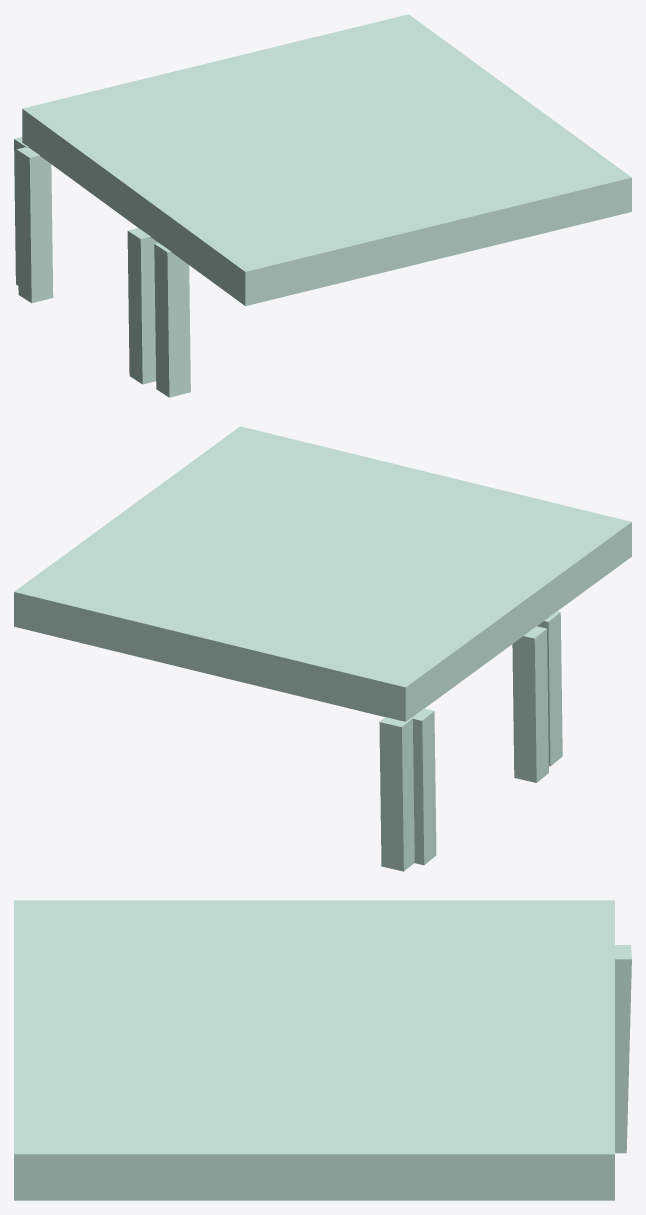
3 renders of one model, top to bottom at view 1: azimuth 30°, elevation 25°; view 2: azimuth 150°, elevation 25°; view 3: azimuth 270°, elevation 25°, orthographic. The views are drawn at different scales.
Visible parts, largest first — view 1: Renderer Node; view 2: Renderer Node; view 3: Renderer Node.
Boxes of the visible parts, box(x1,y1,x2,y2) form: Renderer Node: box(14, 14, 631, 397); Renderer Node: box(14, 426, 631, 871); Renderer Node: box(14, 900, 631, 1200).
Bounding box in the file's own units: 1.42 × 0.6092 × 1.42.
